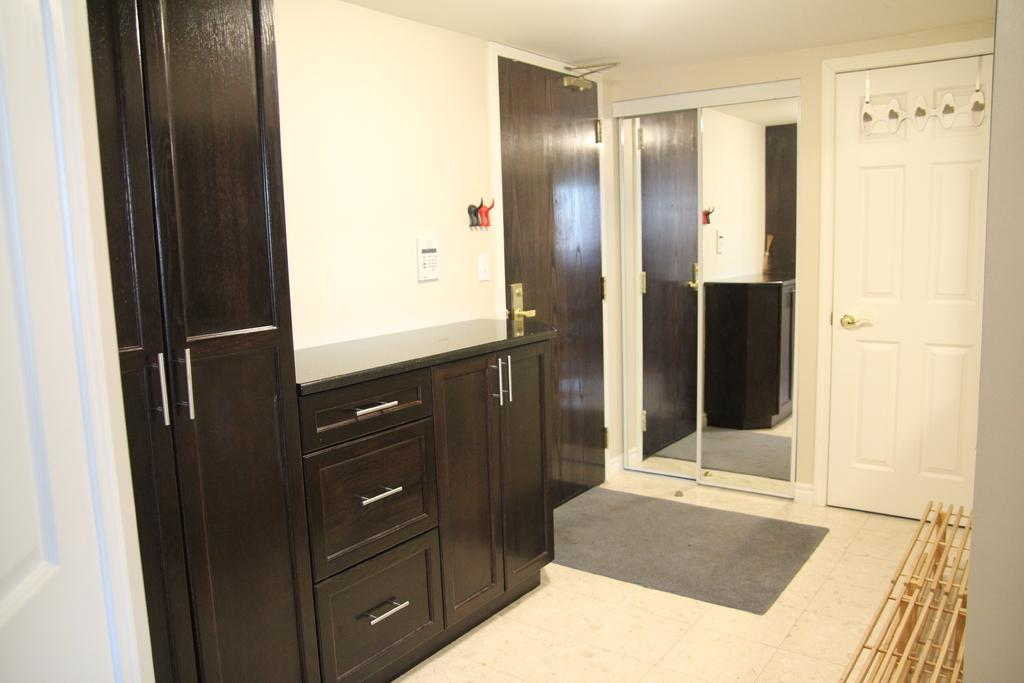cabinet_door: (173, 34, 265, 662), (436, 374, 497, 596), (508, 350, 554, 562), (320, 454, 430, 537), (334, 564, 434, 646), (320, 384, 434, 438)
handle: (141, 344, 173, 429), (172, 345, 204, 427), (348, 396, 407, 428), (366, 599, 412, 627), (350, 490, 408, 511), (502, 353, 520, 405), (840, 307, 872, 333), (491, 359, 504, 412), (513, 304, 540, 320), (683, 277, 699, 294)
